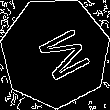M_SW: (23, 20, 88, 85)
